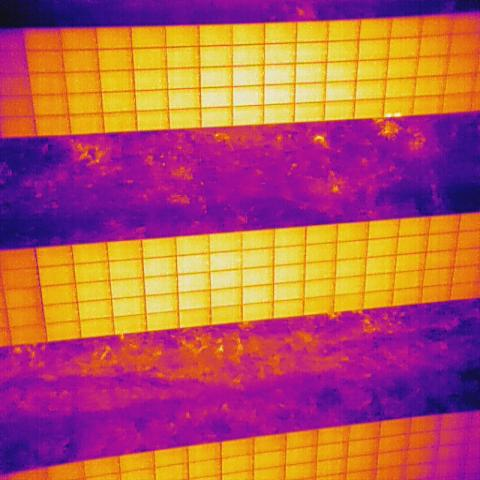fault: (386, 112, 402, 118)
